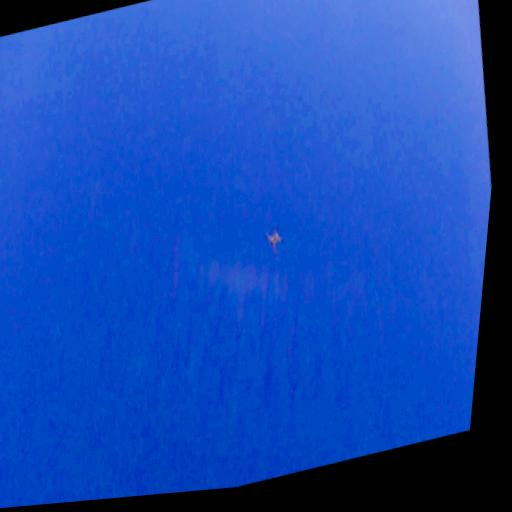drones: (257, 216, 292, 266)
